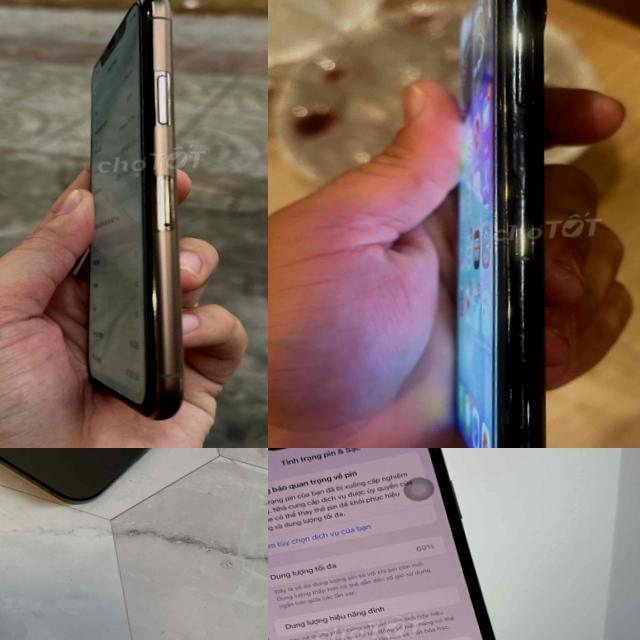gen_11: (49, 0, 234, 424), (268, 448, 533, 640), (454, 0, 547, 448)
gen_15: (0, 448, 197, 527)
scratch: (496, 182, 562, 367), (498, 380, 557, 448), (494, 103, 546, 179), (164, 336, 194, 408), (497, 0, 547, 28), (525, 32, 547, 56)
